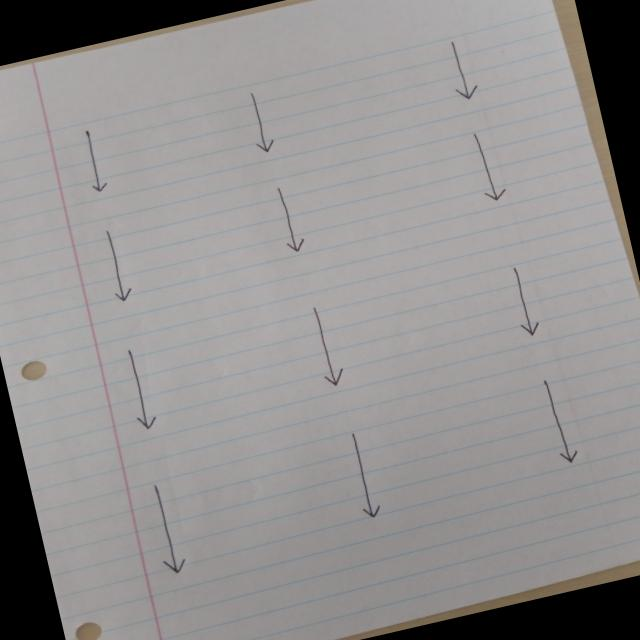arrow_line_down: (524, 368, 593, 474), (138, 482, 202, 588), (330, 425, 394, 527), (452, 122, 524, 208), (291, 296, 351, 394), (256, 176, 318, 260), (110, 342, 163, 436), (424, 30, 482, 110), (90, 224, 145, 308), (498, 260, 550, 343), (64, 120, 116, 198), (238, 85, 288, 159)
